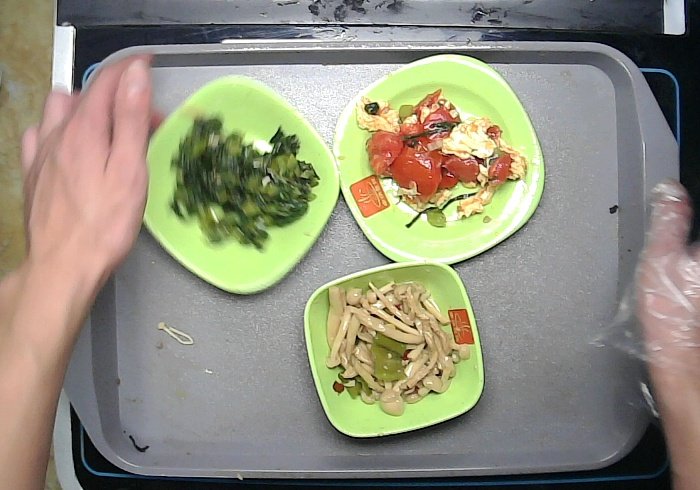SHKJ-Lv_Se_Cai_Die: (134, 74, 339, 295)
SHKJ-Lv_Se_Si_Fang_Cai_Die: (332, 53, 545, 266)
SHKJ-Lv_Se_Xiao_Fang_Die: (303, 260, 484, 437)
